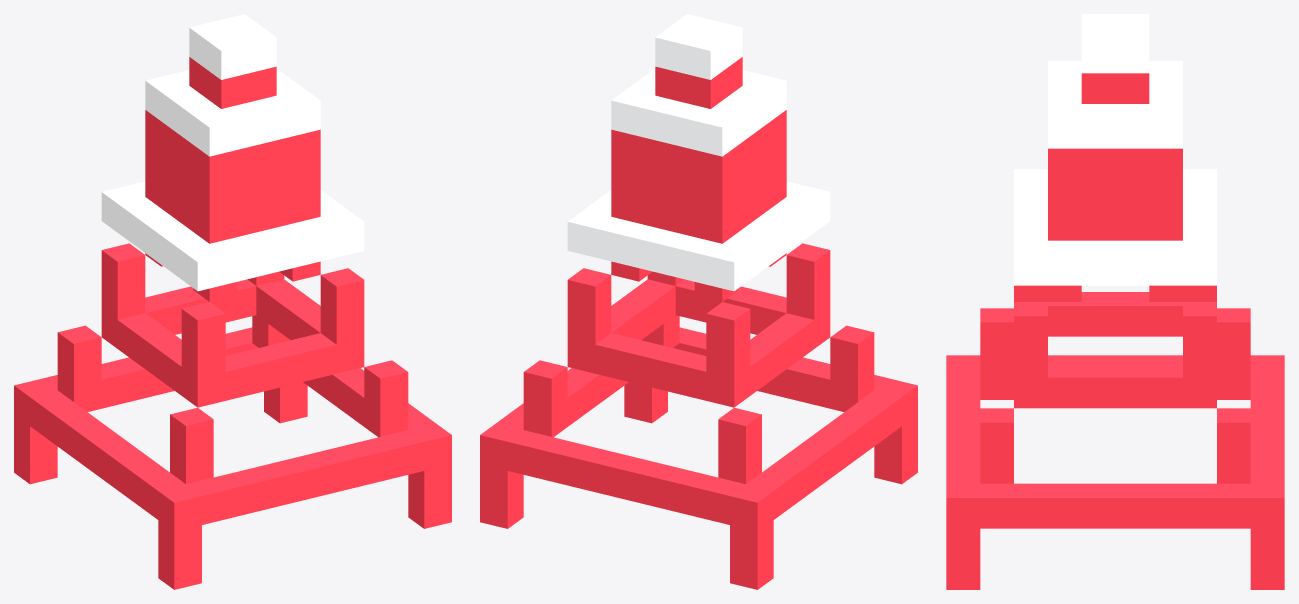
The model's file is voxel-tokyotower.glb.
3 renders of one model, left to right at view 1: azimuth 30°, elevation 25°; view 2: azimuth 150°, elevation 25°; view 3: azimuth 270°, elevation 25°, orthographic. The views are drawn at different scales.
Parts seen in each view (by area): view 1: tokyotower; view 2: tokyotower; view 3: tokyotower.
Part boxes in pixels (x1=…): tokyotower: x1=14, y1=14, x2=451, y2=589; tokyotower: x1=480, y1=14, x2=917, y2=589; tokyotower: x1=946, y1=14, x2=1284, y2=589.
Bounding box in the file's own units: 1.5 × 2.4 × 1.5.
